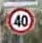limite 40: (6, 7, 35, 35)
